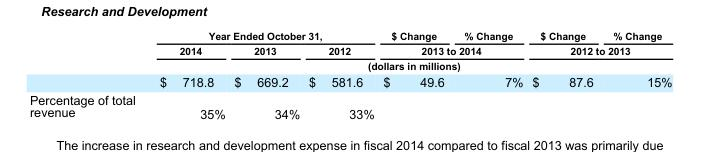table: (28, 29, 671, 120)
table column: (28, 29, 146, 120), (146, 29, 229, 120), (303, 29, 378, 120), (378, 29, 453, 120), (527, 29, 602, 120), (229, 29, 303, 120), (453, 29, 527, 120), (602, 29, 671, 120)
table column header: (28, 29, 671, 90)
table row: (28, 90, 671, 120), (28, 72, 671, 90), (28, 42, 671, 57), (28, 57, 671, 72), (28, 29, 671, 42)
table spanning cell: (146, 57, 671, 72), (146, 29, 378, 42), (378, 42, 527, 57), (527, 42, 671, 57)
